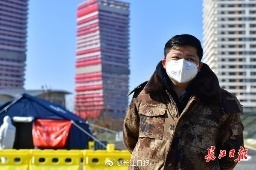correctlyWear: (162, 49, 201, 83)
